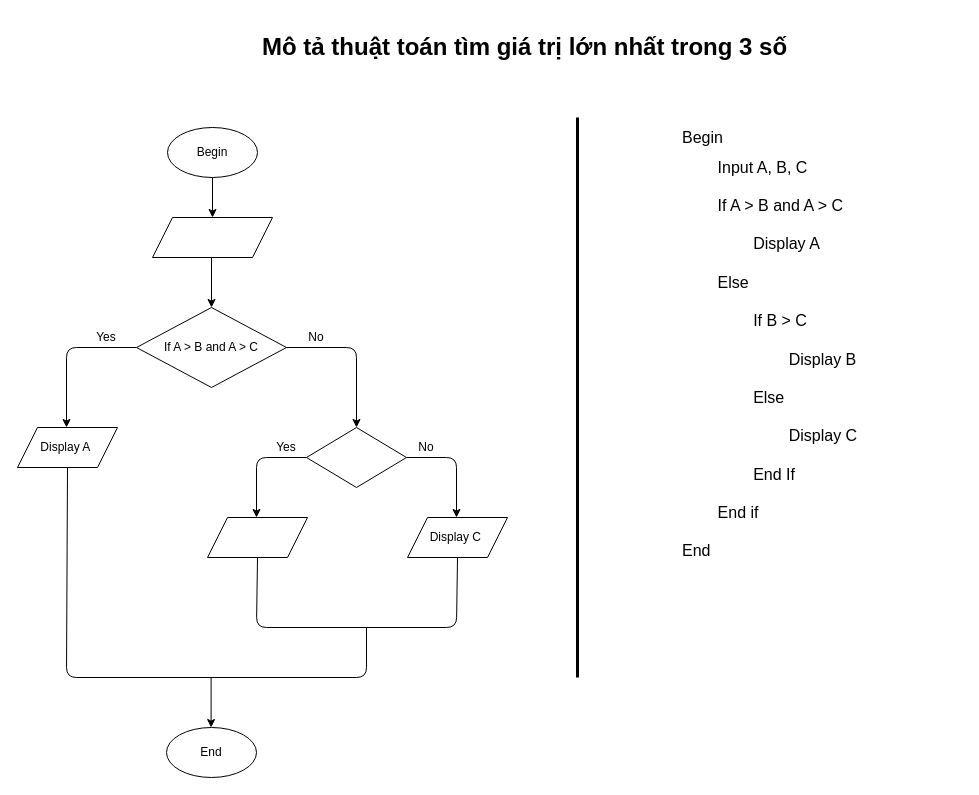
This 979x795 diagram has some shape labels left out. The shapes that lost their labels are listed below. From the top down, each one's centre as x and y in pixels, then its label:
pixel 212 237: Input A, B, C
pixel 356 457: If B > C
pixel 257 537: Display B
